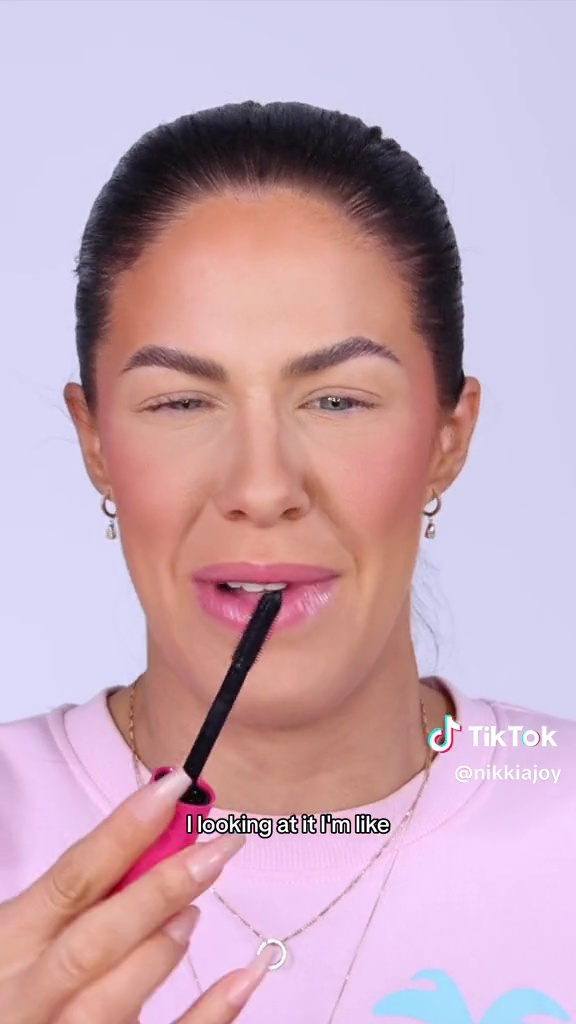train' :'yolo_data/train/images',: (117, 580, 291, 884)
